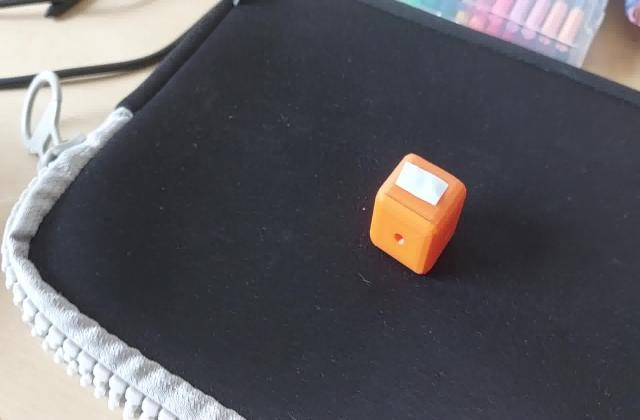sticker: (366, 152, 470, 280)
white: (401, 172, 451, 208)
